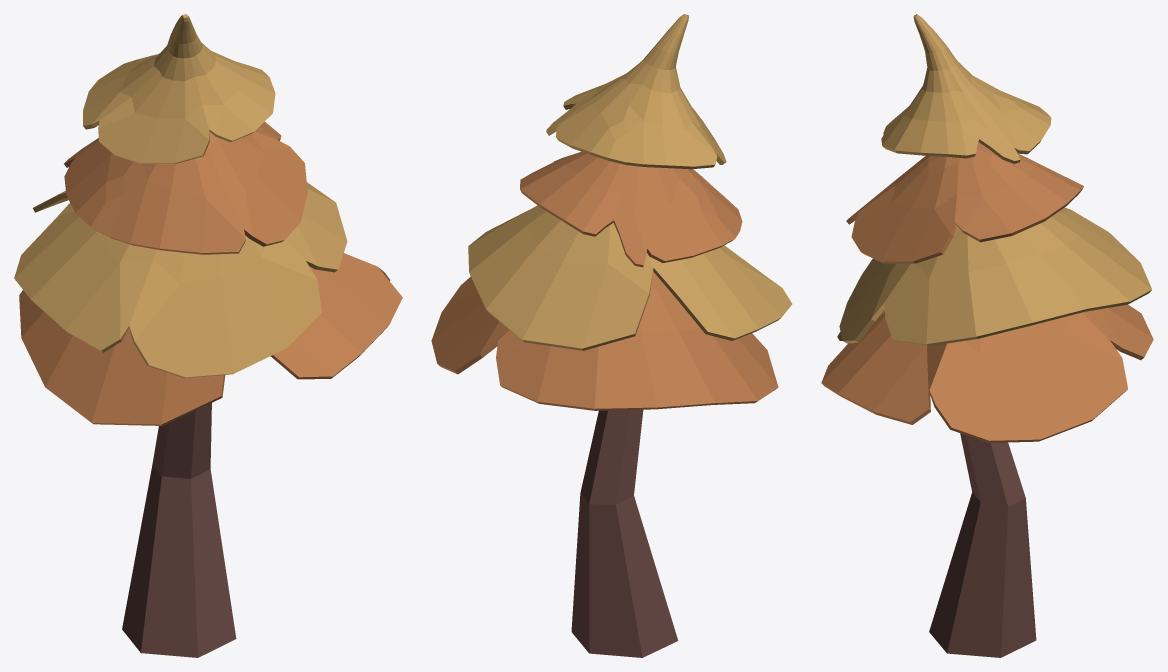
File: pinetree_autumn_5.glb
3 renders of one model, left to right at view 1: azimuth 30°, elevation 25°; view 2: azimuth 150°, elevation 25°; view 3: azimuth 270°, elevation 25°, orthographic. The views are drawn at different scales.
Visible parts, largest first — view 1: PineTree_Autumn_5; view 2: PineTree_Autumn_5; view 3: PineTree_Autumn_5.
Boxes of the visible parts, x1,y1,x2,y2 form: PineTree_Autumn_5: (14,14,402,657); PineTree_Autumn_5: (431,14,792,657); PineTree_Autumn_5: (821,14,1153,657).
Size of the model in its own units: 3.68 by 6.74 by 3.34.
